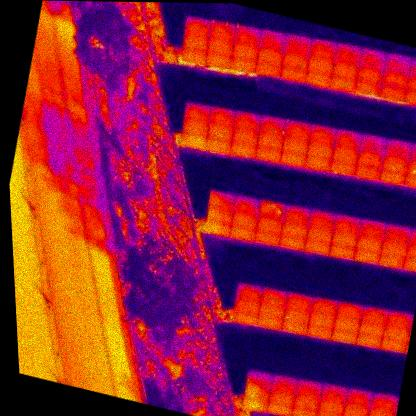Hotspot: (334, 128, 364, 151), (258, 114, 287, 137), (233, 24, 262, 47), (304, 67, 333, 89), (258, 199, 288, 220), (260, 286, 289, 307), (378, 250, 407, 271), (208, 20, 237, 41), (329, 157, 357, 178), (207, 120, 235, 141), (232, 40, 260, 61), (308, 310, 337, 330), (354, 77, 383, 97), (281, 50, 310, 69), (230, 140, 258, 159), (382, 153, 410, 172), (182, 130, 209, 149), (283, 306, 311, 324), (245, 383, 272, 401), (406, 159, 416, 178), (340, 413, 369, 416)
Normal: (356, 60, 386, 84), (381, 65, 410, 89), (258, 27, 287, 51), (333, 42, 363, 65), (359, 133, 388, 156), (384, 137, 413, 160), (284, 33, 313, 56), (309, 38, 338, 61), (359, 46, 388, 69), (283, 119, 313, 141), (254, 227, 283, 249), (232, 193, 261, 215), (359, 218, 388, 240), (254, 143, 283, 165), (183, 101, 212, 123), (309, 123, 338, 145), (384, 51, 413, 73), (345, 387, 374, 409), (382, 322, 412, 343), (278, 148, 308, 169), (306, 138, 336, 159), (354, 161, 382, 183), (209, 105, 237, 127), (380, 334, 409, 355), (235, 282, 264, 303), (285, 292, 314, 313), (310, 296, 339, 317), (336, 300, 365, 321), (229, 222, 258, 243), (278, 231, 307, 252), (304, 237, 333, 258), (333, 213, 362, 234), (383, 223, 412, 244), (304, 152, 333, 173), (257, 130, 286, 151), (356, 148, 385, 169), (331, 57, 360, 78), (245, 369, 274, 390), (295, 378, 324, 399), (371, 392, 400, 413), (269, 374, 299, 394), (379, 166, 407, 187), (232, 124, 260, 145), (234, 110, 262, 131), (379, 81, 407, 102), (208, 35, 236, 56), (256, 312, 285, 332), (358, 318, 387, 338), (361, 305, 390, 325), (386, 309, 415, 329), (328, 242, 357, 262), (353, 246, 382, 266), (205, 204, 234, 224), (230, 209, 259, 229), (255, 214, 284, 234), (281, 218, 310, 238), (306, 223, 335, 243), (207, 190, 236, 210), (283, 204, 312, 224), (281, 134, 310, 154), (279, 64, 308, 84), (329, 73, 358, 93), (307, 54, 336, 74), (267, 388, 296, 408), (182, 115, 209, 136), (183, 30, 210, 51), (205, 218, 233, 238), (309, 209, 337, 229), (205, 135, 233, 155), (332, 144, 360, 164), (257, 45, 285, 65), (184, 16, 212, 36), (318, 395, 346, 415), (330, 327, 359, 346), (355, 330, 384, 349), (333, 314, 362, 333), (331, 229, 360, 248), (356, 233, 385, 252), (381, 238, 410, 257), (321, 383, 350, 402), (182, 45, 209, 65), (255, 58, 282, 78), (281, 318, 309, 337), (306, 323, 334, 342), (206, 50, 234, 69), (232, 308, 259, 327), (243, 395, 270, 414), (293, 393, 321, 411), (231, 55, 258, 73), (233, 296, 261, 313), (258, 302, 286, 319), (266, 401, 294, 416), (343, 402, 371, 416), (290, 404, 318, 416), (367, 406, 395, 416), (403, 172, 416, 191), (403, 86, 416, 105), (316, 407, 343, 416), (406, 70, 416, 92), (409, 142, 416, 165), (409, 56, 416, 77)
